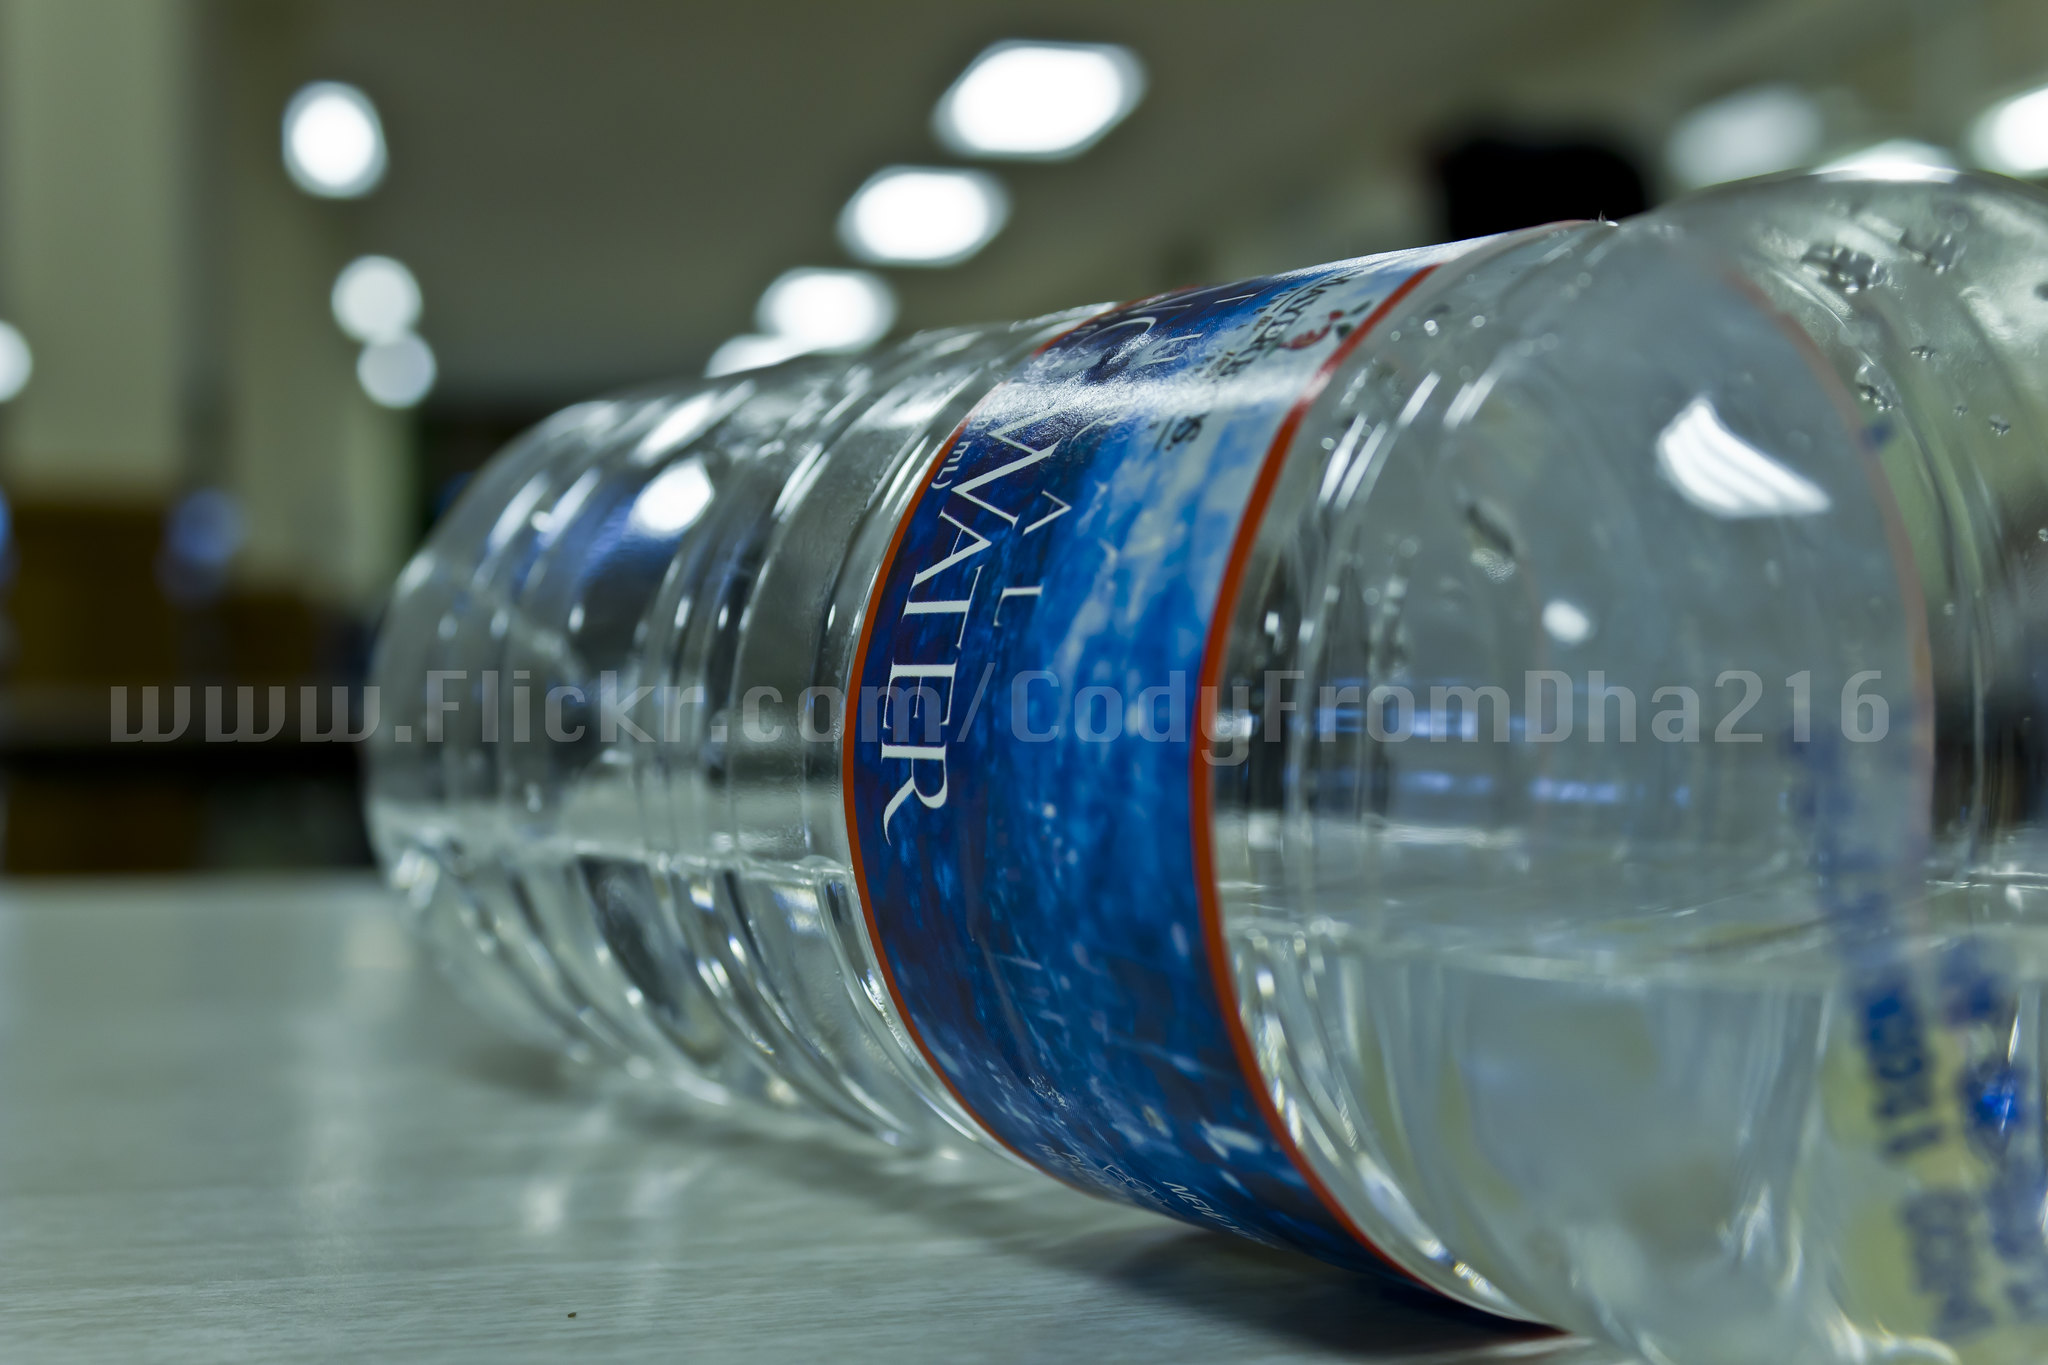Bottle: (303, 158, 2048, 1365)
